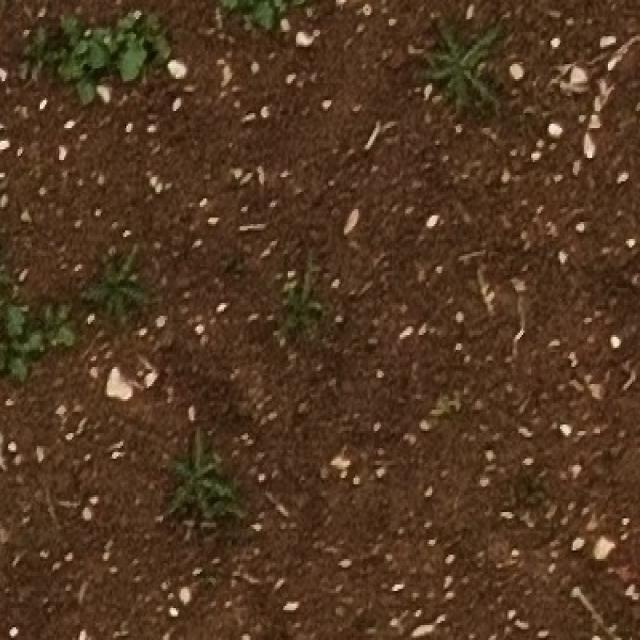cirse: (443, 7, 530, 118), (404, 6, 489, 118), (419, 15, 500, 118), (158, 455, 243, 543), (151, 434, 235, 523), (161, 426, 245, 508), (76, 244, 146, 324), (83, 244, 155, 318), (83, 255, 152, 330), (267, 271, 312, 335), (290, 276, 334, 341), (282, 276, 326, 340)
